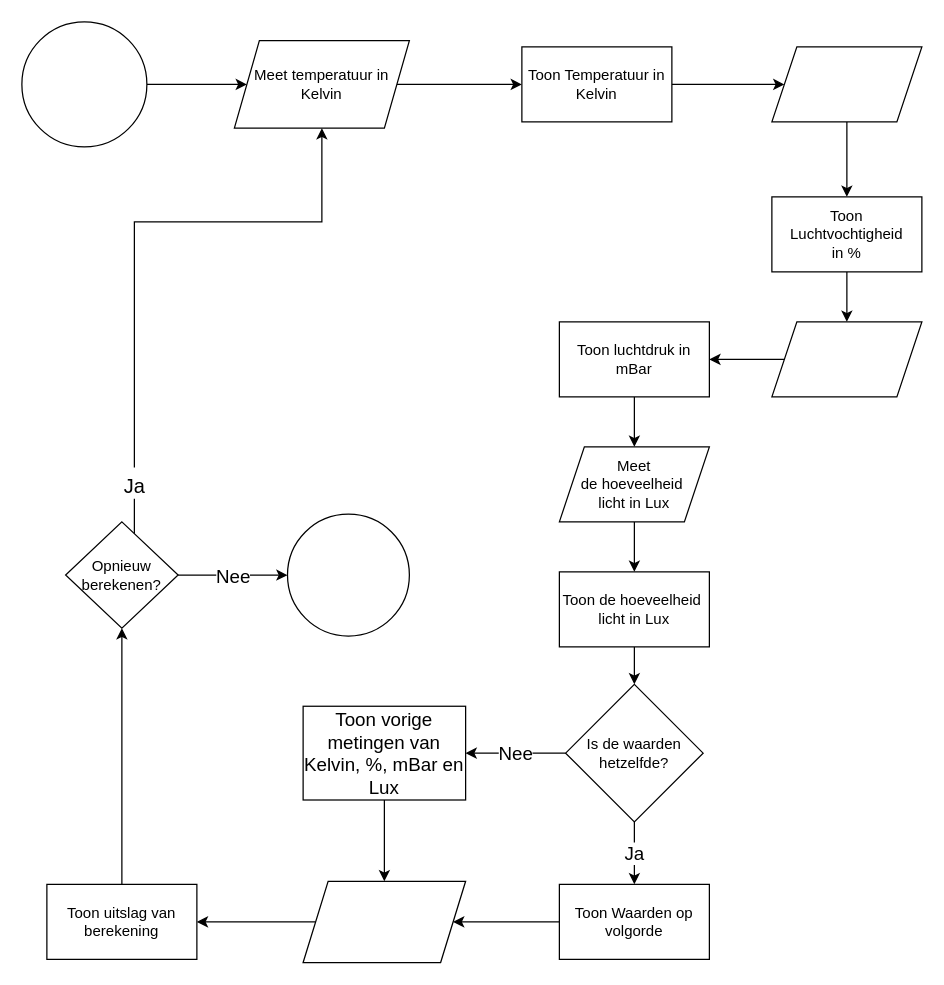
Image size: 944x985. Some labels were removed from this diagram. The centre of each missing label's shape, as x and y in pixels:
"Bereken Kelvin naar Celsius" belongs at [384,921].
"Meet luchtdruk in mBar" belongs at [846,359].
"Meet Luchtvochtigheid in %" belongs at [846,84].
"START" belongs at [84,84].
"STOP" belongs at [347,574].
